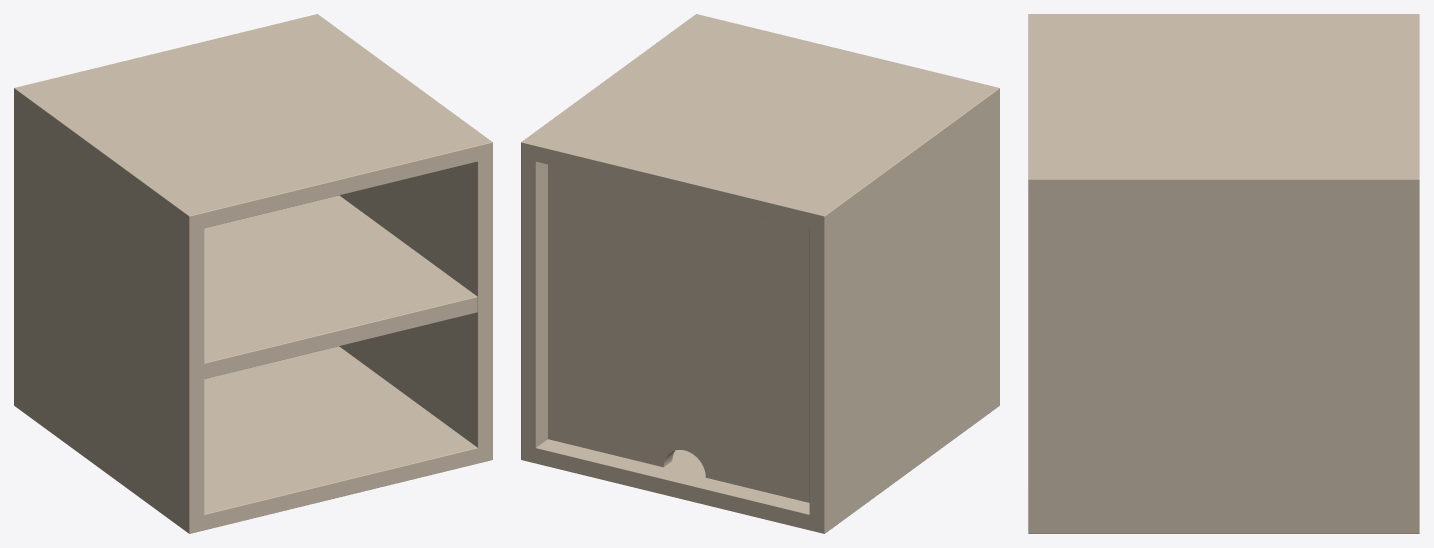
Rendered from MOD-1X1-S-B-AP-AR.glb.
The picture shows the model from 3 angles, left to right: view 1: azimuth 30°, elevation 25°; view 2: azimuth 150°, elevation 25°; view 3: azimuth 270°, elevation 25°; orthographic projection. The views are drawn at different scales.
Bounding box in the file's own units: 360 × 360 × 360.
